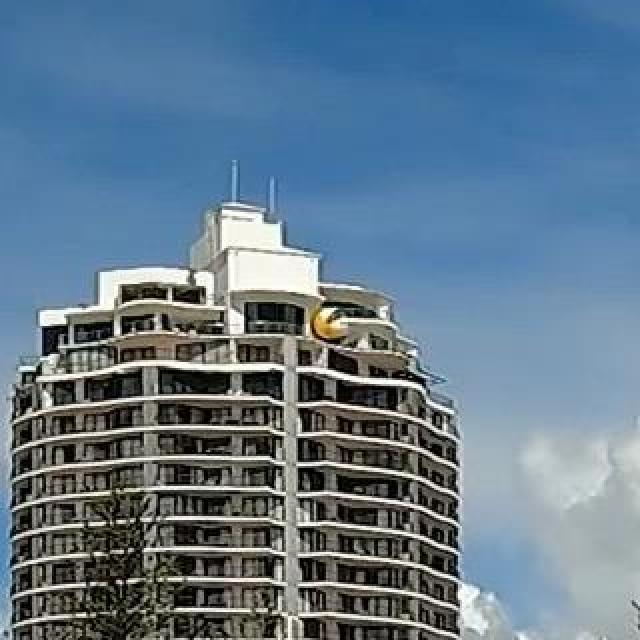volleyball: (310, 311, 346, 345)
